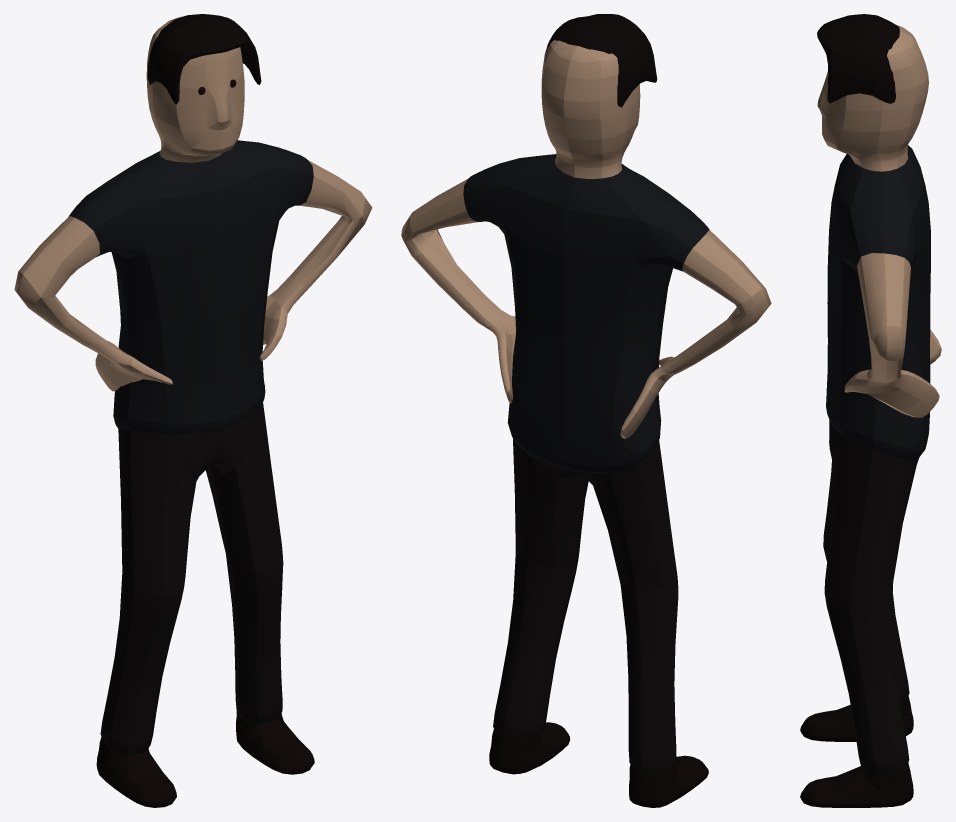
The model's file is pessoa_h_conversando.glb.
3 views of the same model, side by side, from view 1: azimuth 30°, elevation 25°; view 2: azimuth 150°, elevation 25°; view 3: azimuth 270°, elevation 25° (orthographic).
Parts seen in each view (by area): view 1: pessoa_h_conversando; view 2: pessoa_h_conversando; view 3: pessoa_h_conversando.
Part boxes in pixels (x1,y1,x2,y2): pessoa_h_conversando: (14,14,372,807); pessoa_h_conversando: (401,14,771,807); pessoa_h_conversando: (800,14,941,807).
Bounding box in the file's own units: 0.8855 × 1.77 × 0.3047.
Materials: 1 (1 with a texture image).
